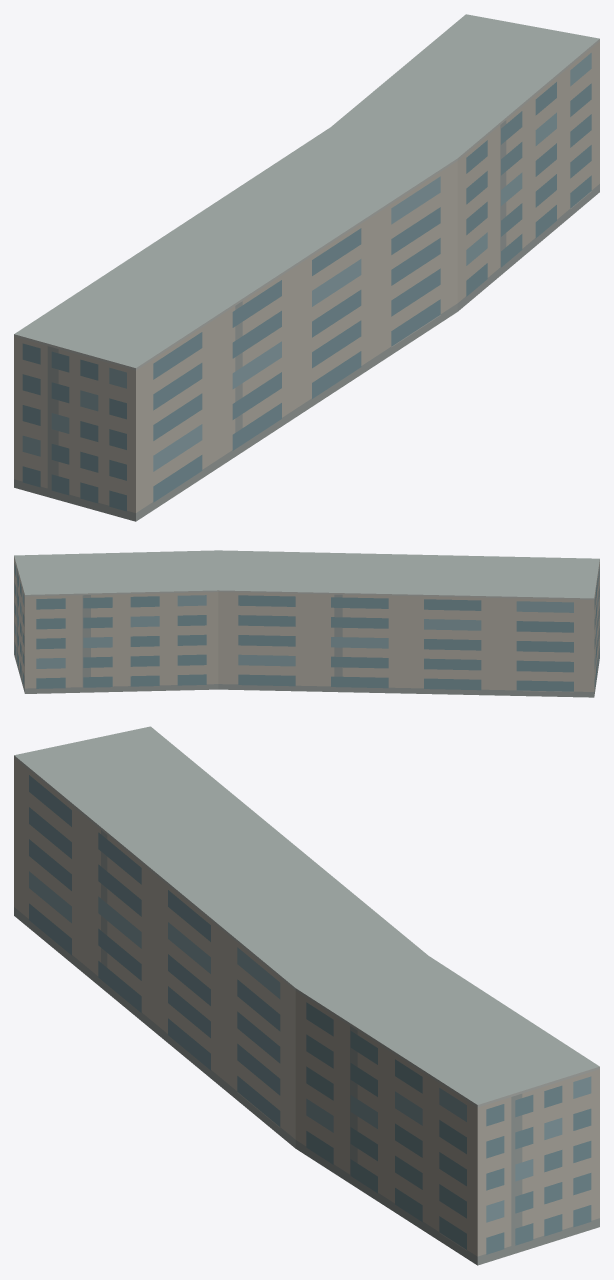
File: residential-a7c335b1-6604-4cef-ac25-0b6d5968571d.glb
The picture shows the model from 3 angles, top to bottom: view 1: azimuth 30°, elevation 25°; view 2: azimuth 150°, elevation 25°; view 3: azimuth 270°, elevation 25°; orthographic projection. The views are drawn at different scales.
Parts seen in each view (by area): view 1: residential-a7c335b1-6604-4cef-ac25-0b6d5968571d.tmp; view 2: residential-a7c335b1-6604-4cef-ac25-0b6d5968571d.tmp; view 3: residential-a7c335b1-6604-4cef-ac25-0b6d5968571d.tmp.
Boxes of the visible parts, bbox=[...] form: residential-a7c335b1-6604-4cef-ac25-0b6d5968571d.tmp: bbox=[14, 14, 599, 521]; residential-a7c335b1-6604-4cef-ac25-0b6d5968571d.tmp: bbox=[14, 550, 599, 697]; residential-a7c335b1-6604-4cef-ac25-0b6d5968571d.tmp: bbox=[14, 726, 599, 1265].
Bounding box in the file's own units: 77.17 × 15.25 × 50.46.
